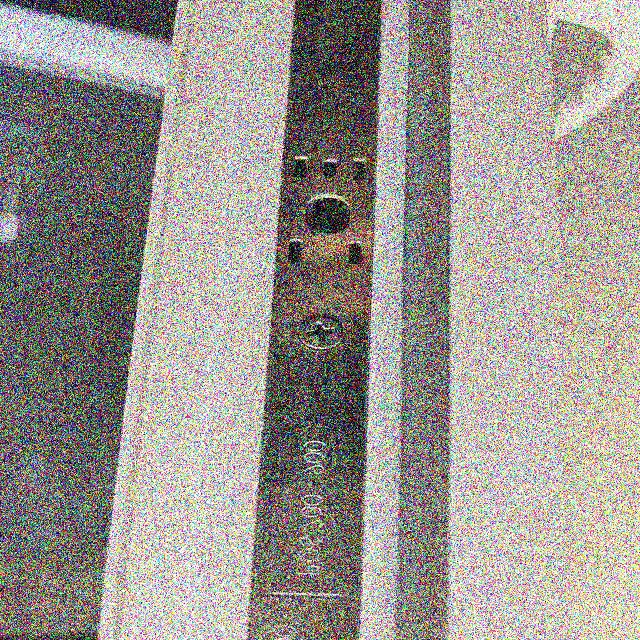phillips: (298, 315, 346, 352)
